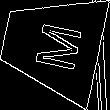M_W: (22, 17, 81, 73)
